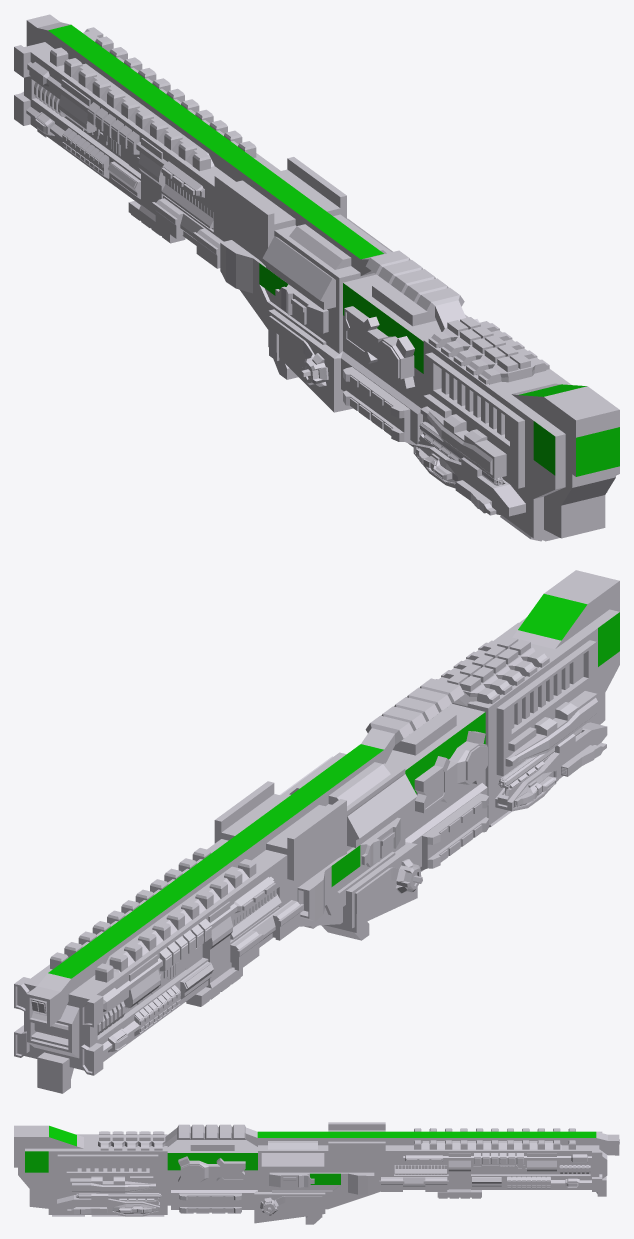
File: hull.long.fbx
3 renders of one model, top to bottom at view 1: azimuth 30°, elevation 25°; view 2: azimuth 150°, elevation 25°; view 3: azimuth 270°, elevation 25°, orthographic. The views are drawn at different scales.
Parts seen in each view (by area): view 1: hull.long; view 2: hull.long; view 3: hull.long.
Boxes of the visible parts, <box> form: hull.long: <box>14,14,619,541</box>; hull.long: <box>14,570,619,1093</box>; hull.long: <box>14,1122,619,1224</box>.
Size of the model in its own units: 3.44 by 4.34 by 28.03.
